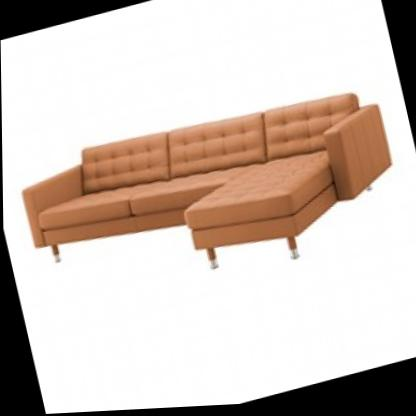Sofa: (3, 58, 412, 332)
